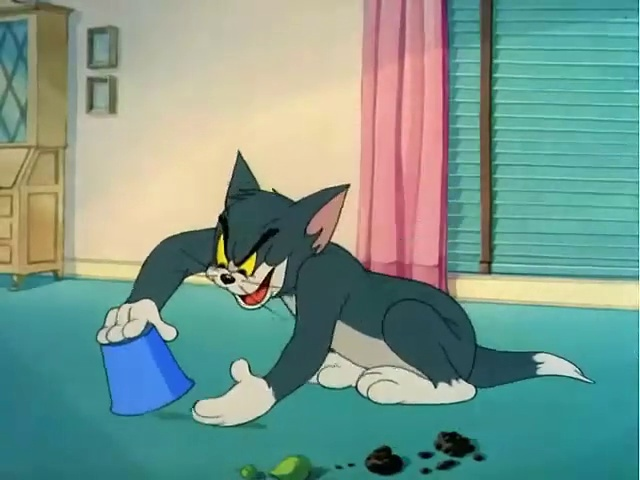tom: (76, 138, 596, 462)
